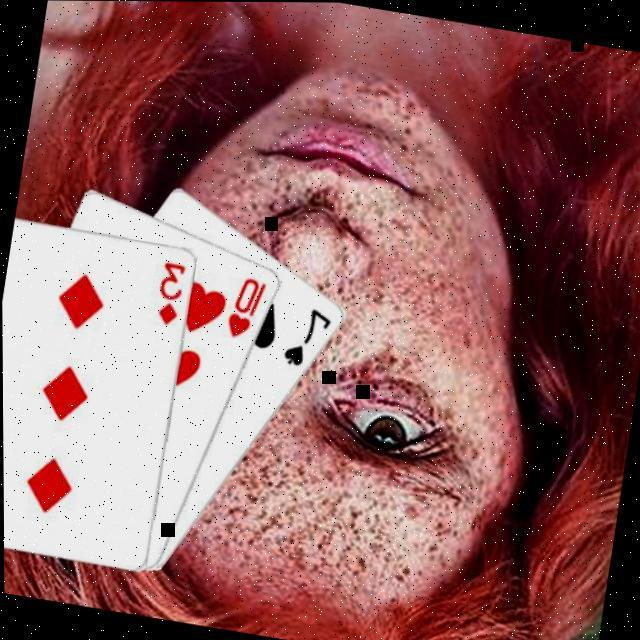10H: (220, 272, 268, 344)
3D: (149, 258, 187, 330)
7S: (276, 302, 335, 374)
